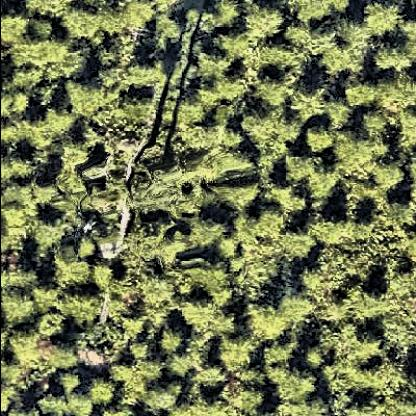tree-top: (336, 129, 382, 179), (245, 302, 291, 348), (275, 362, 321, 408), (189, 257, 235, 303), (67, 77, 113, 121), (243, 1, 288, 45), (240, 107, 283, 152), (118, 225, 164, 266), (375, 72, 416, 117), (351, 286, 394, 328), (361, 2, 405, 42), (186, 213, 228, 254), (55, 252, 96, 294), (65, 289, 107, 330), (136, 273, 178, 314), (291, 82, 331, 125), (320, 39, 363, 79), (217, 335, 259, 375), (272, 291, 322, 324), (183, 294, 223, 334), (7, 327, 46, 368), (279, 226, 321, 264), (40, 103, 78, 145), (306, 165, 345, 205), (127, 58, 166, 97), (372, 40, 414, 76), (218, 147, 260, 183), (3, 290, 41, 328), (252, 205, 289, 243), (32, 219, 71, 255), (259, 39, 300, 73), (145, 379, 183, 415), (86, 375, 122, 413), (35, 34, 72, 70), (347, 79, 385, 114), (370, 159, 408, 194), (351, 329, 387, 365), (2, 151, 40, 185), (120, 1, 158, 35), (292, 1, 341, 27), (305, 121, 340, 157), (257, 72, 292, 108), (61, 7, 96, 43), (275, 185, 312, 219), (1, 8, 32, 48), (284, 151, 320, 185), (195, 361, 231, 394), (37, 311, 71, 345), (1, 119, 34, 154), (46, 343, 81, 375), (4, 266, 40, 297), (60, 138, 94, 170), (316, 217, 348, 249), (31, 282, 64, 313), (216, 34, 250, 64), (10, 65, 45, 94), (158, 327, 188, 359), (325, 101, 355, 133), (24, 2, 74, 21), (126, 92, 153, 127), (91, 263, 121, 294), (167, 352, 199, 381), (214, 1, 245, 29), (397, 111, 416, 155), (290, 398, 336, 416), (41, 391, 74, 416), (59, 369, 87, 394)
